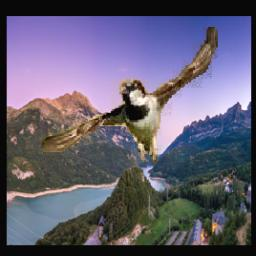Sparrow: (40, 27, 219, 165)
